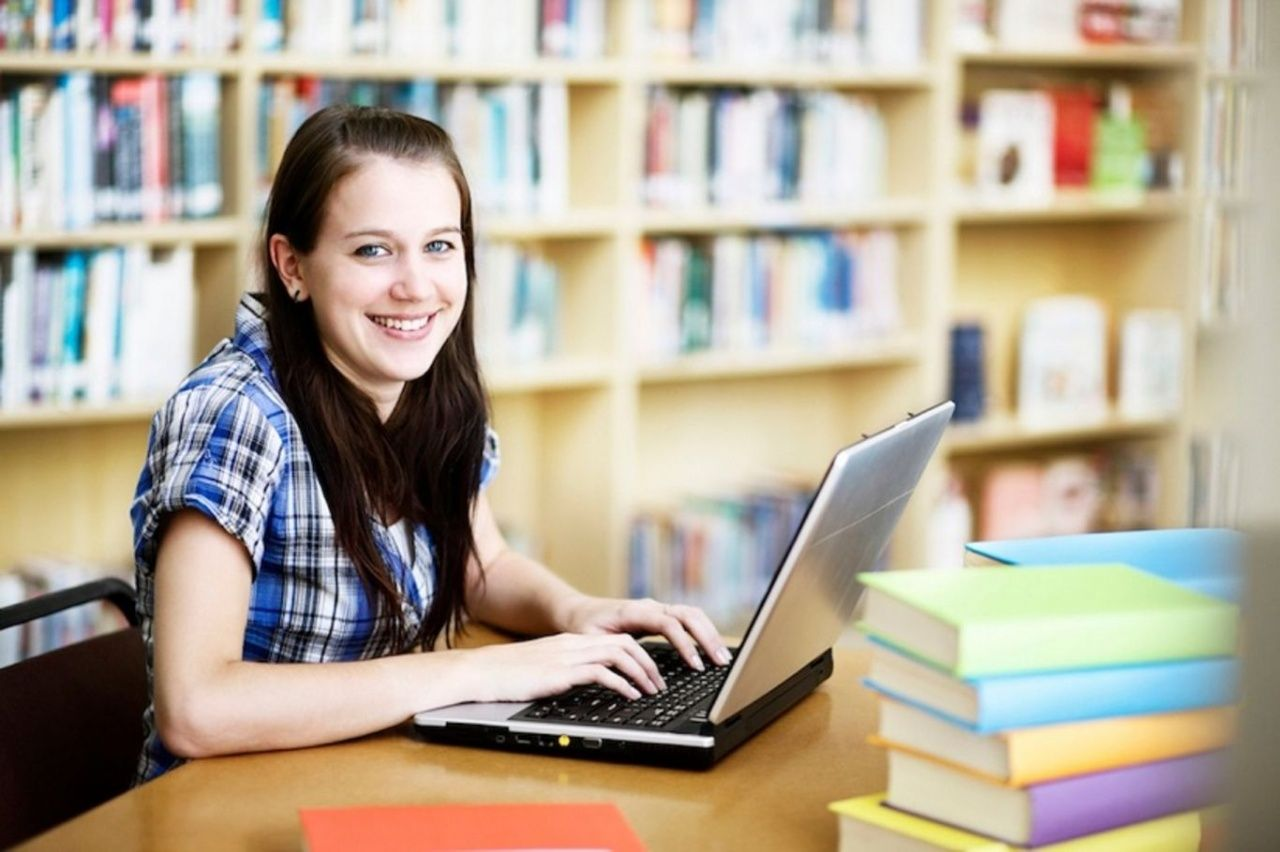students: (133, 102, 732, 793)
